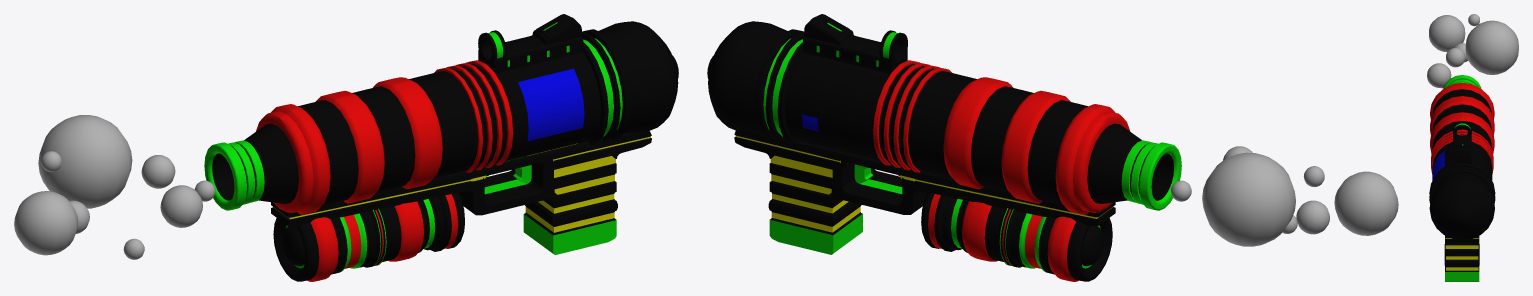
File: BubblePOPbubbles.fbx
The picture shows the model from 3 angles, left to right: view 1: azimuth 30°, elevation 25°; view 2: azimuth 150°, elevation 25°; view 3: azimuth 270°, elevation 25°; orthographic projection. The views are drawn at different scales.
Visible parts, largest first — view 1: BubblePopper_, Bubbles; view 2: BubblePopper_, Bubbles; view 3: BubblePopper_, Bubbles.
Boxes of the visible parts, x1,y1,x2,y2 form: BubblePopper_: [204, 14, 678, 281]; Bubbles: [14, 115, 215, 259]; BubblePopper_: [707, 14, 1181, 281]; Bubbles: [1170, 146, 1398, 246]; BubblePopper_: [1429, 75, 1495, 281]; Bubbles: [1427, 14, 1518, 88].
Size of the model in its own units: 14.92 by 4.76 by 3.07.
